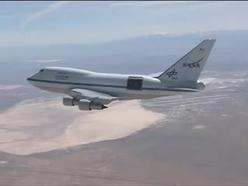aircraft: (25, 38, 217, 110)
